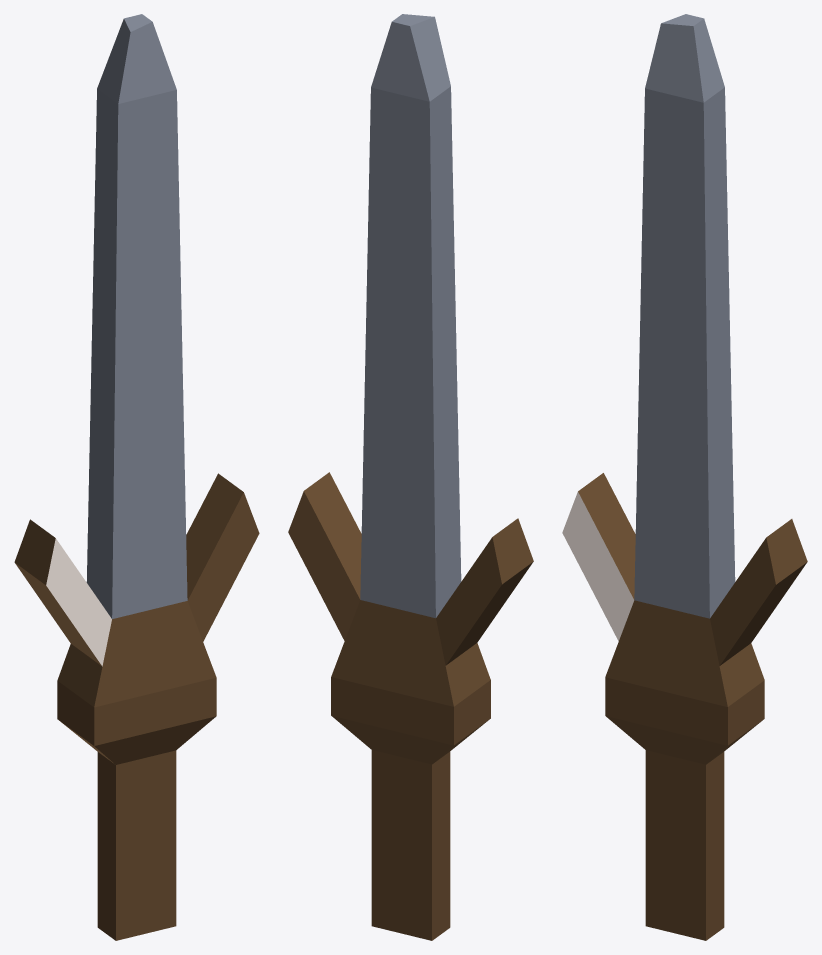
The model's file is sword.fbx.
The picture shows the model from 3 angles, left to right: view 1: azimuth 30°, elevation 25°; view 2: azimuth 150°, elevation 25°; view 3: azimuth 330°, elevation 25°; orthographic projection.
Visible parts, largest first — view 1: Cube.055; view 2: Cube.055; view 3: Cube.055.
Boxes of the visible parts, left/top/right/bottom form: Cube.055: left=14, top=14, right=259, bottom=940; Cube.055: left=288, top=14, right=533, bottom=940; Cube.055: left=562, top=14, right=807, bottom=940.
Size of the model in its own units: 41.02 by 166 by 12.27.
